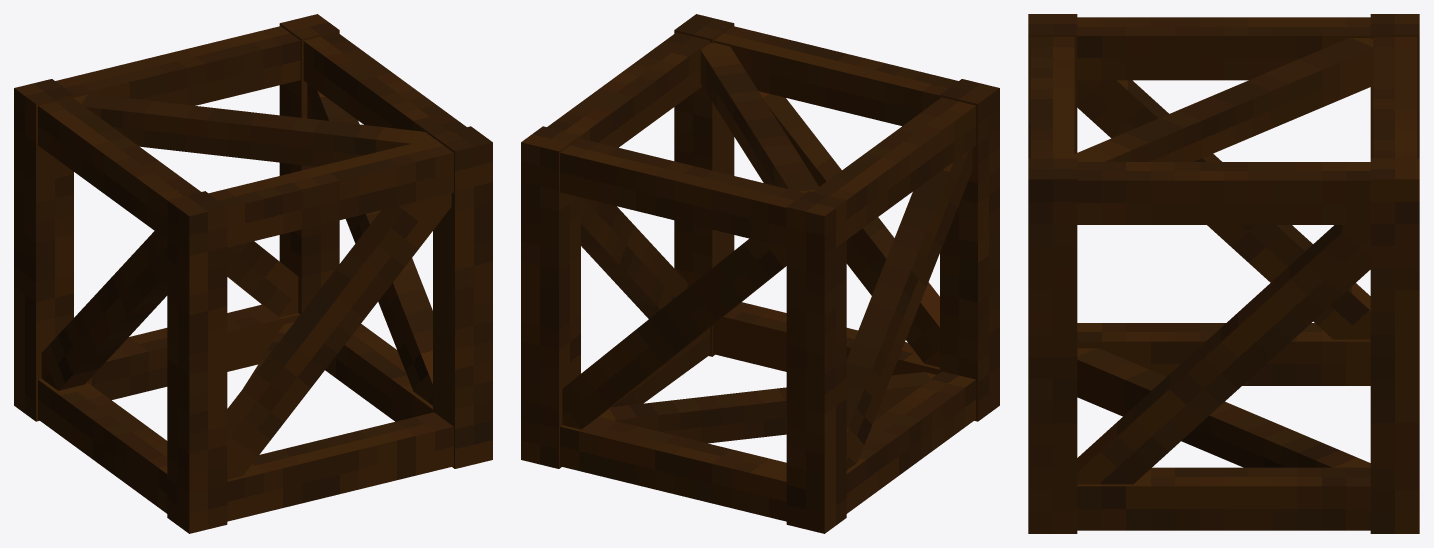
Rendered from Tower_slot.glb.
The picture shows the model from 3 angles, left to right: view 1: azimuth 30°, elevation 25°; view 2: azimuth 150°, elevation 25°; view 3: azimuth 270°, elevation 25°; orthographic projection. The views are drawn at different scales.
Visible parts, largest first — view 1: Tower Slot; view 2: Tower Slot; view 3: Tower Slot.
Part boxes in pixels (x1,y1,x2,y2): Tower Slot: (14, 14, 492, 533); Tower Slot: (521, 14, 999, 533); Tower Slot: (1028, 14, 1419, 533).
Size of the model in its own units: 1 by 1 by 1.
Materials: 1 (1 with a texture image).
